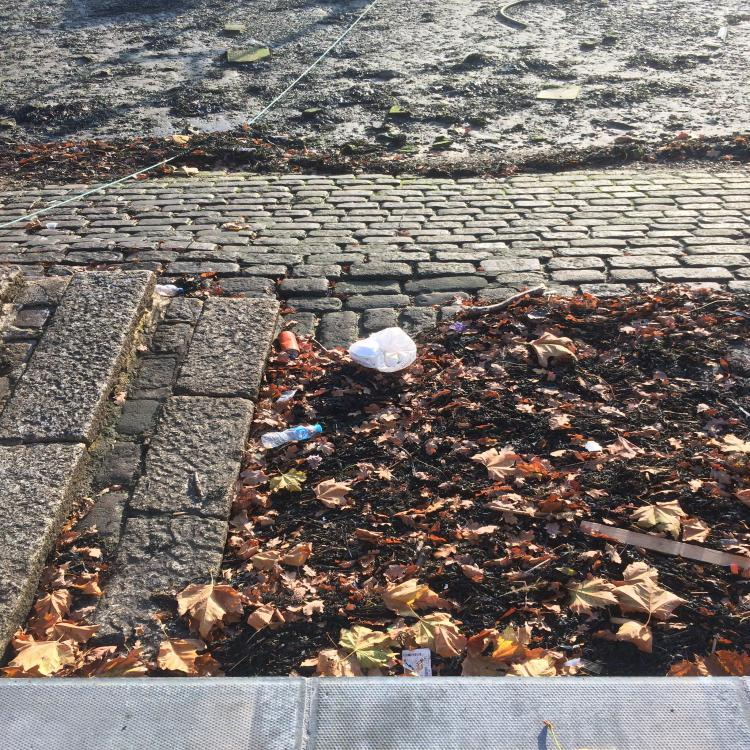Clear plastic bottle: (261, 424, 323, 448)
Normal paper: (403, 648, 432, 676)
Plastic film: (562, 658, 602, 674)
Single-use carrier bag: (349, 327, 416, 373)
